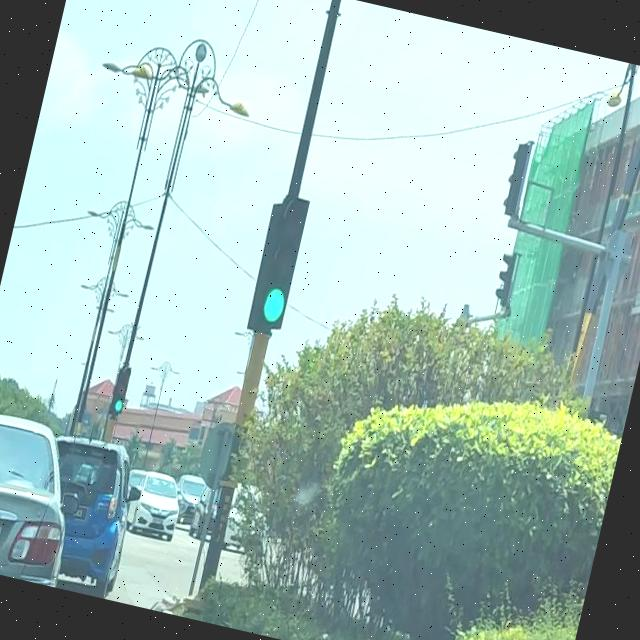green_light: (252, 194, 310, 330), (110, 366, 130, 414)
